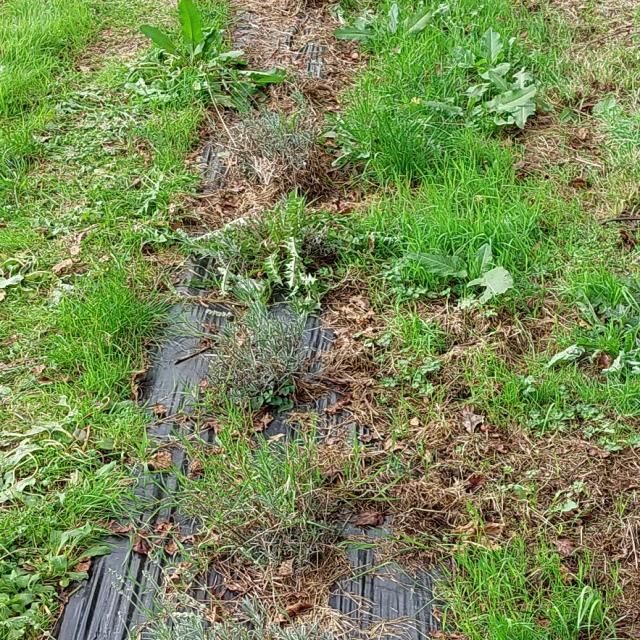organic waste: (114, 1, 268, 118), (402, 230, 540, 330), (340, 0, 466, 80), (0, 395, 104, 491), (454, 64, 560, 150), (551, 296, 640, 396), (0, 243, 80, 316), (441, 19, 537, 78)
